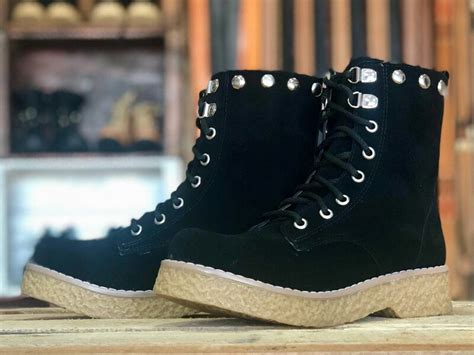gamuza: (31, 57, 447, 292)
